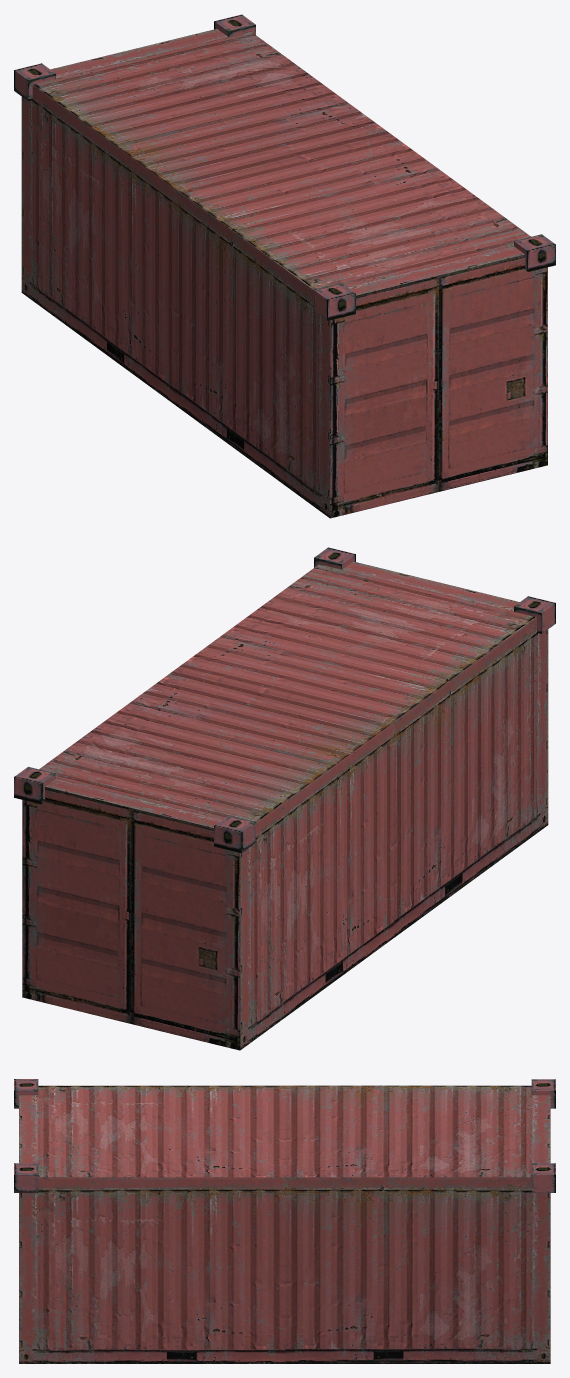
File: Cover_Container11.glb
3 views of the same model, one above another, from view 1: azimuth 30°, elevation 25°; view 2: azimuth 150°, elevation 25°; view 3: azimuth 270°, elevation 25° (orthographic). The views are drawn at different scales.
Parts seen in each view (by area): view 1: xiutz_container11; view 2: xiutz_container11; view 3: xiutz_container11.
Boxes of the visible parts, x1,y1,x2,y2 form: xiutz_container11: (14,14,555,518); xiutz_container11: (14,547,555,1050); xiutz_container11: (14,1079,555,1363).
Size of the model in its own units: 4.79 by 4.44 by 11.43.
1 material, 1 textured.
